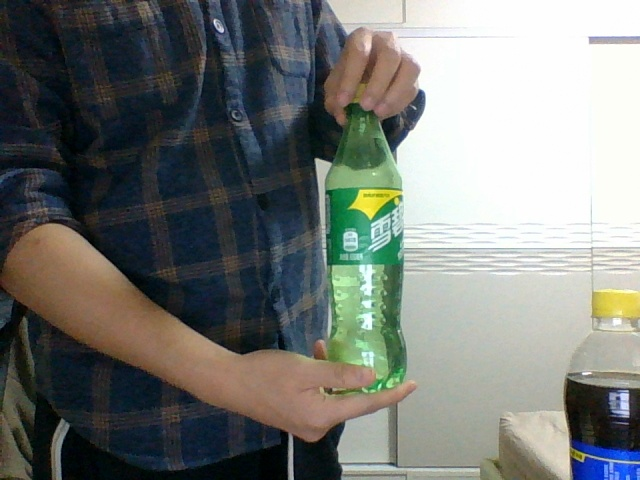Cola: (563, 289, 638, 479)
Sprite: (323, 82, 406, 391)
